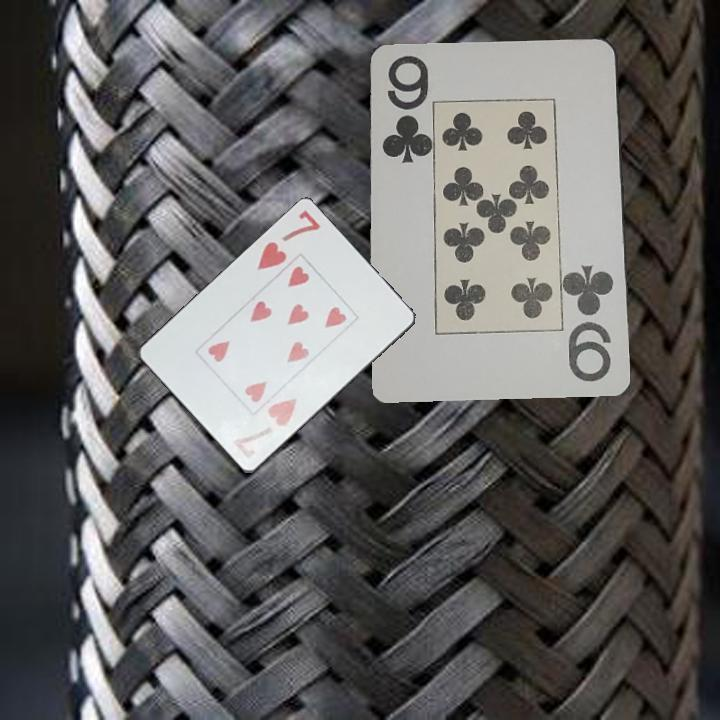7h: (229, 395, 300, 462), (254, 207, 324, 274)
9c: (564, 261, 617, 386), (378, 53, 428, 167)
